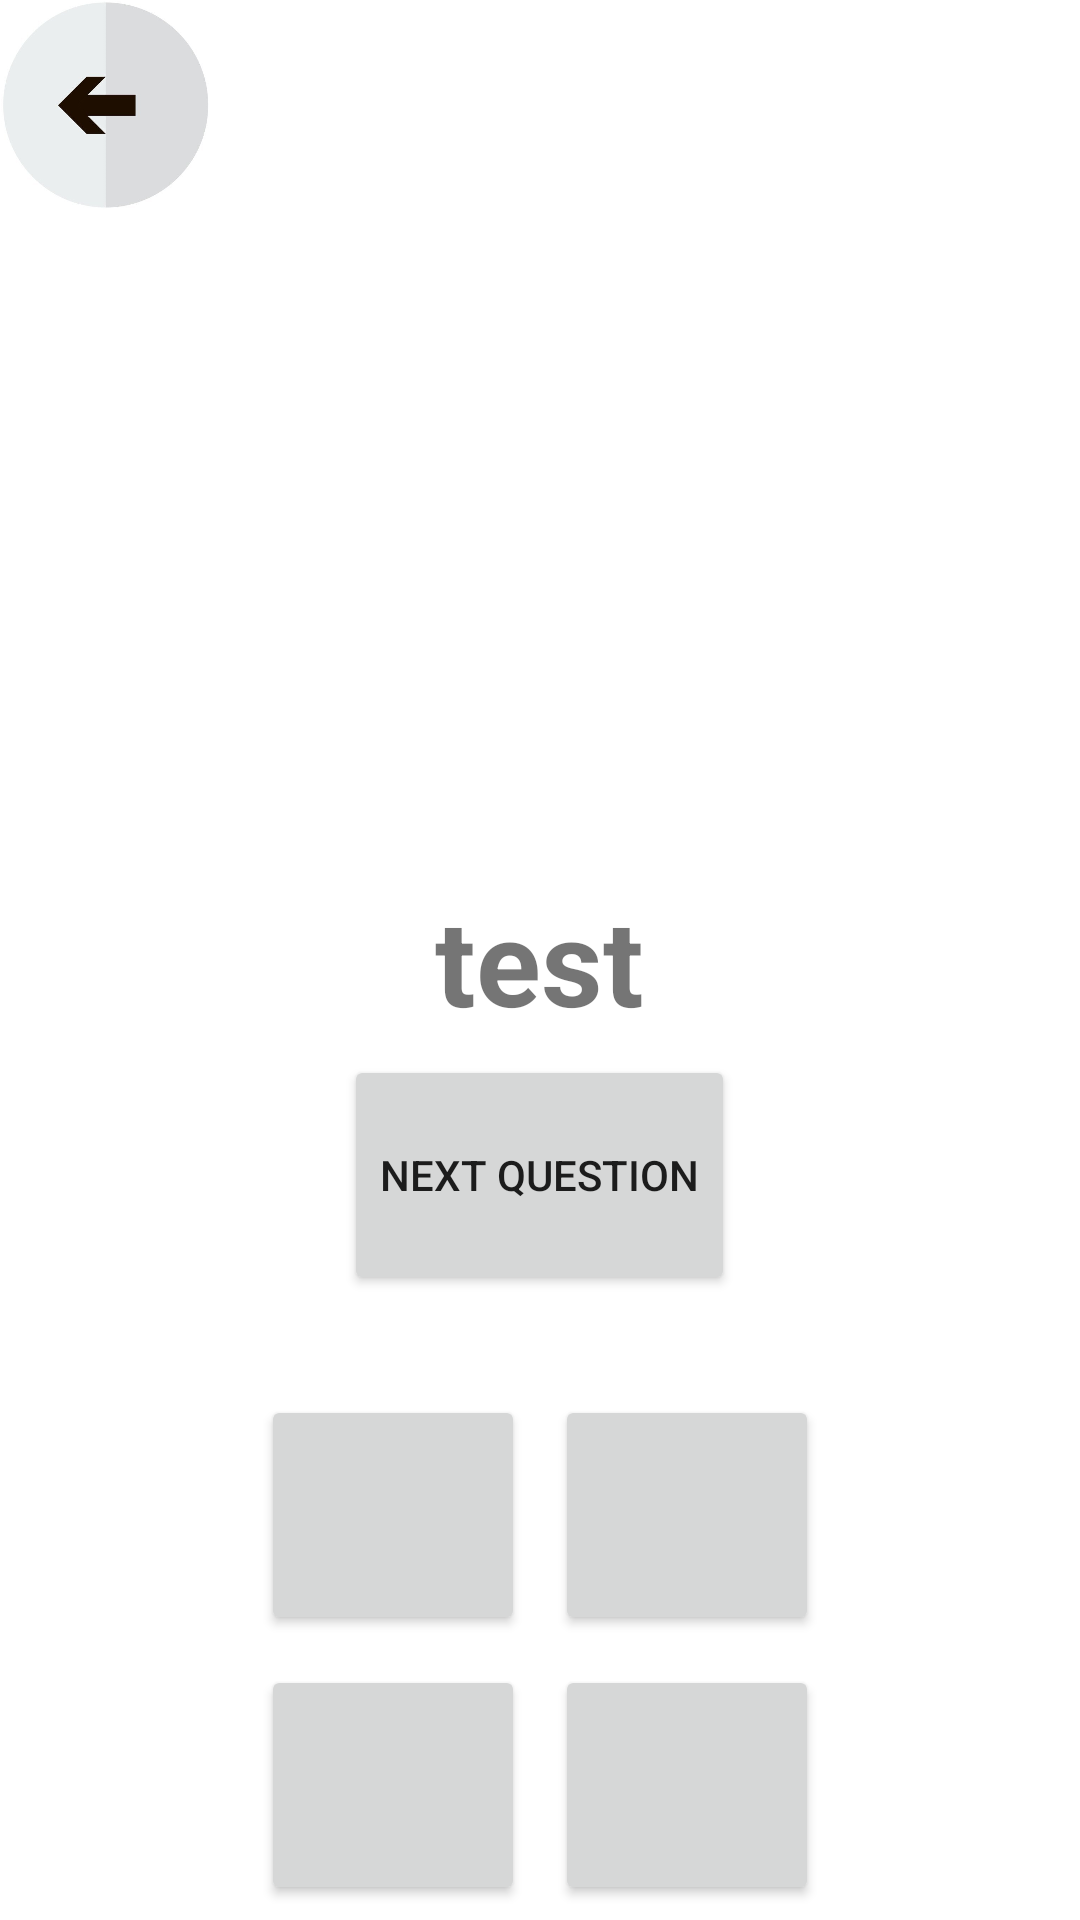

Locate icon controls on the screen. Image size 1080px×1920px, boxes as [left=x1, top=y1, right=x2, bottom=y2].
arrow: [left=56, top=3, right=208, bottom=207]
